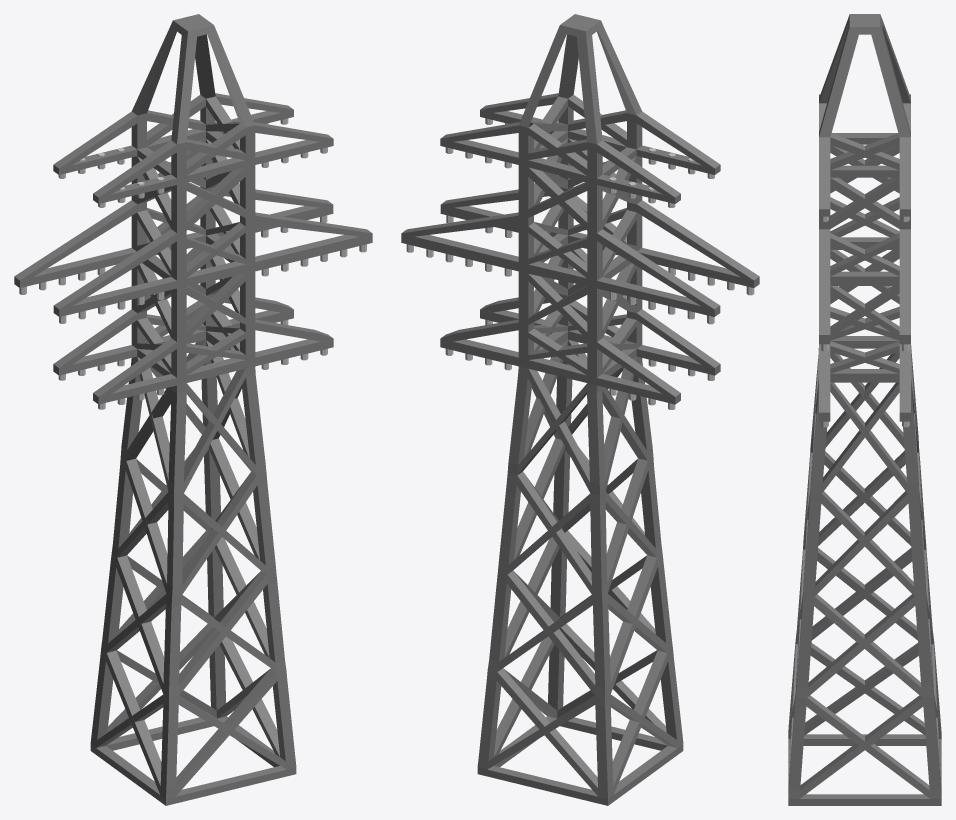
Rendered from ElectricPylon.fbx.
The picture shows the model from 3 angles, left to right: view 1: azimuth 30°, elevation 25°; view 2: azimuth 150°, elevation 25°; view 3: azimuth 270°, elevation 25°; orthographic projection.
Visible parts, largest first — view 1: Cube, Cylinder.059; view 2: Cube, Cylinder.059; view 3: Cube, Cylinder.059.
Part boxes in pixels (x1,y1,x2,y2): Cube: (14,14,372,805); Cylinder.059: (19,118,366,409); Cube: (401,14,759,805); Cylinder.059: (406,118,754,409); Cube: (788,14,941,805); Cylinder.059: (821,216,909,427).
Bounding box in the file's own units: 2400 × 5414 × 1000.
